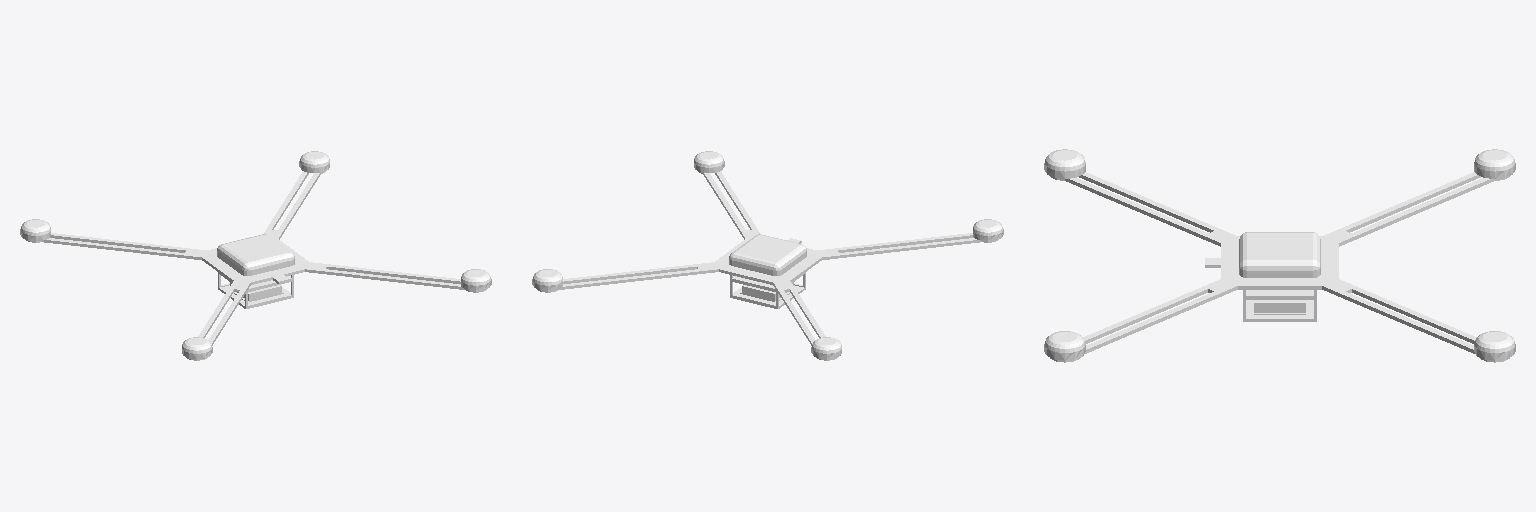
The robot description file, URDF, robot "drone_body.SLDPRT":
<robot
  name="drone_body.SLDPRT">
  <link
    name="drone_body">
    <inertial>
      <origin
        xyz="4.4291E-17 -0.00022677 -4.358E-05"
        rpy="0 0 0" />
      <mass
        value="0.17838" />
      <inertia
        ixx="0.000910404472688649"
        ixy="3.57883271095375E-19"
        ixz="-1.8956743099855E-20"
        iyy="0.00090921851956839"
        iyz="2.57230549695904E-08"
        izz="0.0017807239423749" />
    </inertial>
    <visual>
      <origin
        xyz="0 0 0"
        rpy="1.5707963267949 0 0" />
      <geometry>
        <mesh
          filename="package://drone_body/meshes/drone_body.STL" />
      </geometry>
      <material
        name="">
        <color
          rgba="1 1 1 1" />
      </material>
    </visual>
    <collision>
      <origin
        xyz="0 0 0"
        rpy="1.5707963267949 0 0" />
      <geometry>
        <mesh
          filename="package://drone_body/meshes/drone_body.STL" />
      </geometry>
    </collision>
  </link>
</robot>

--- What the picture shows (computed from the rendered views, not written in the file) ---
Views: 3 orthographic renders of the robot side by side, from view 1: azimuth 30°, elevation 25°; view 2: azimuth 150°, elevation 25°; view 3: azimuth 270°, elevation 25°.
Model drone_body.SLDPRT with 1 links and 0 joints (none), rooted at drone_body, posed all joints at 0.
Links seen in each view (by area): view 1: drone_body; view 2: drone_body; view 3: drone_body.
Link boxes in pixels (<box>): drone_body: <box>20,151,491,360</box>; drone_body: <box>532,151,1003,360</box>; drone_body: <box>1044,149,1515,362</box>.
Size in the robot's own frame: 0.285 by 0.285 by 0.04 metres.
Meshes: 1 distinct files referenced, 1 mesh visuals loaded (1 binary STL).